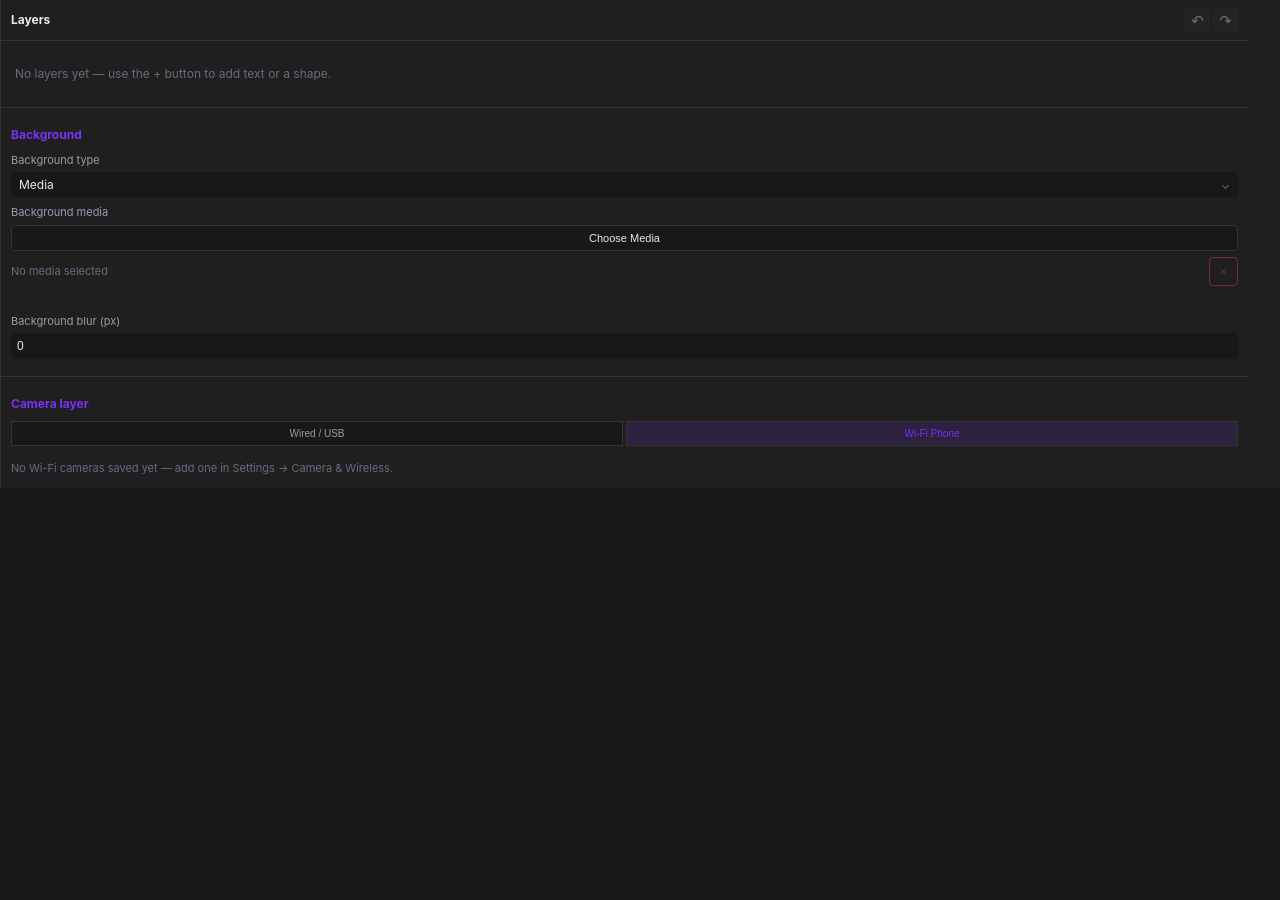
Test case: template background media picker › imports an image through the same picker
The width and height of the screenshot is (1280, 900).
Click the button "Choose Media" at (624, 238), box top-left (11, 225), bottom-right (1238, 251)
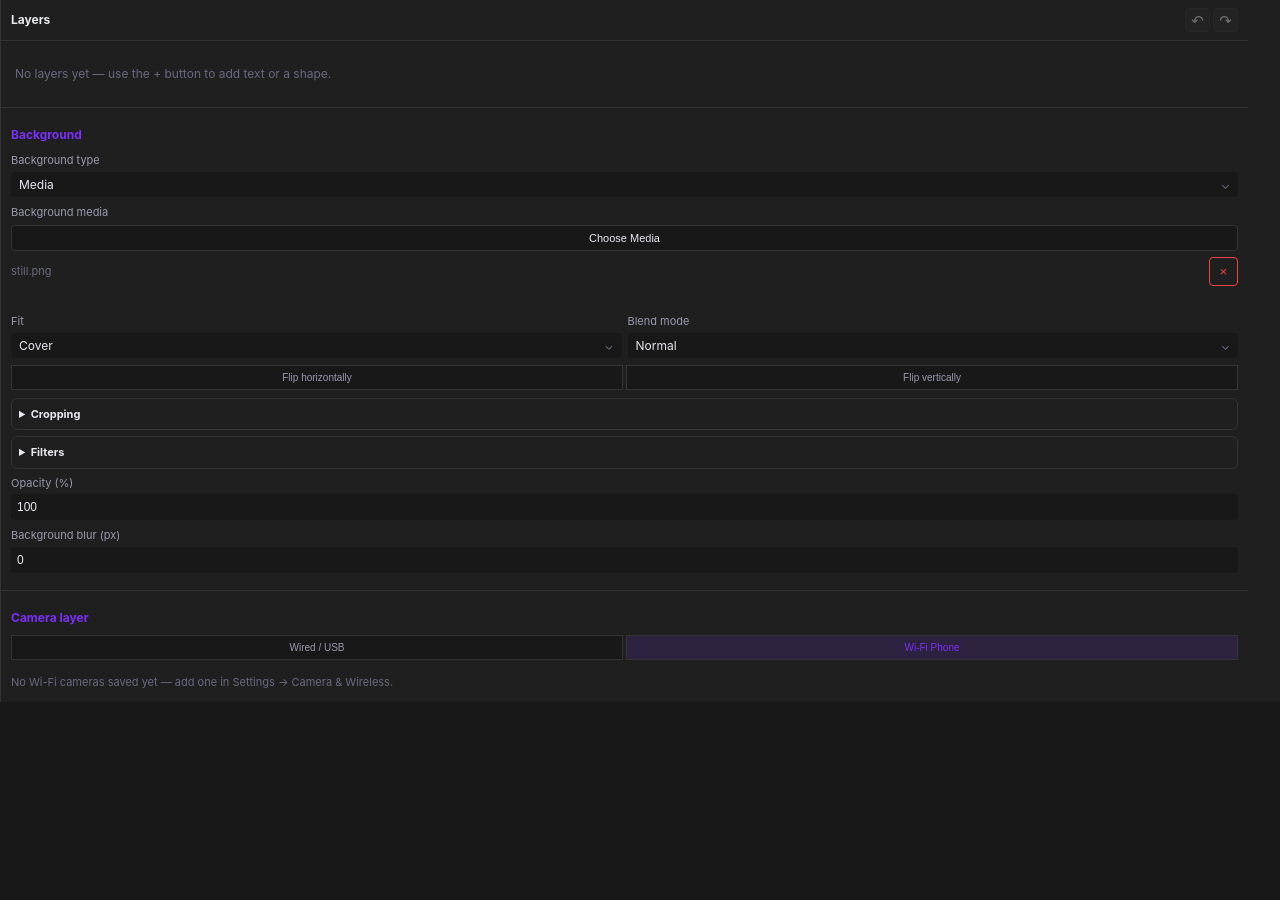
Now the text "still.png" is shown, box top-left (11, 264), bottom-right (52, 278)
